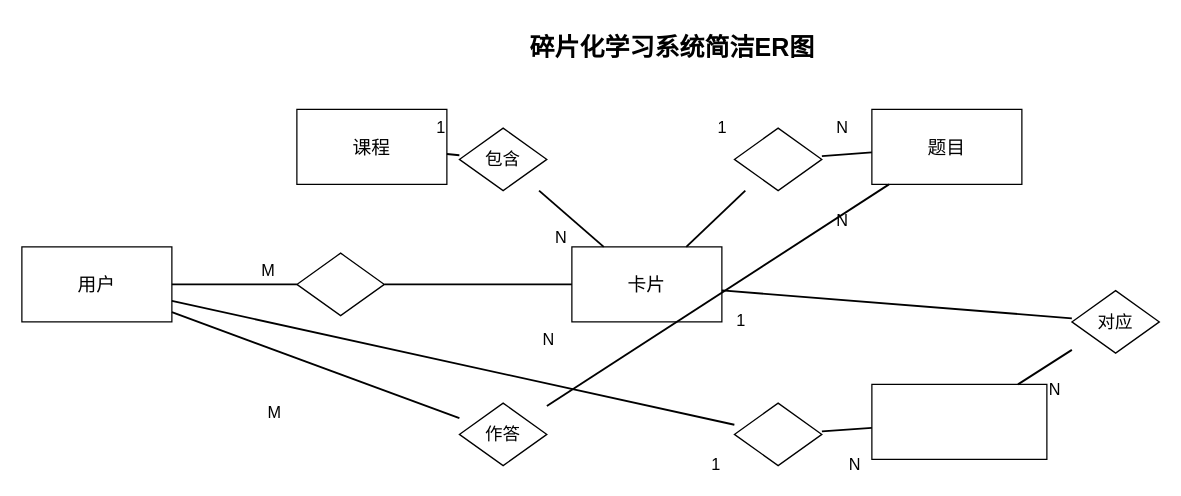
Some shapes in this 1181 by 496 pixel diagram are drawn without their labels. The shapes that lost their labels are listed below. From the top down, each one's centre as x and y in pixels, then its label:
At pixel 777 159: "关联".
At pixel 340 284: "学习".
At pixel 777 434: "生成".
At pixel 959 421: "复习计划".
